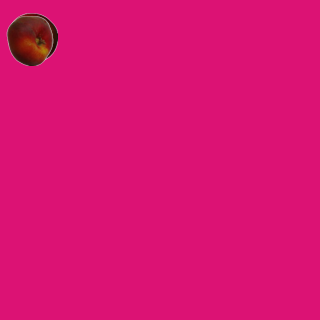Apple Braeburn: (7, 12, 57, 62)
Nectarine Flat: (4, 15, 54, 65)
